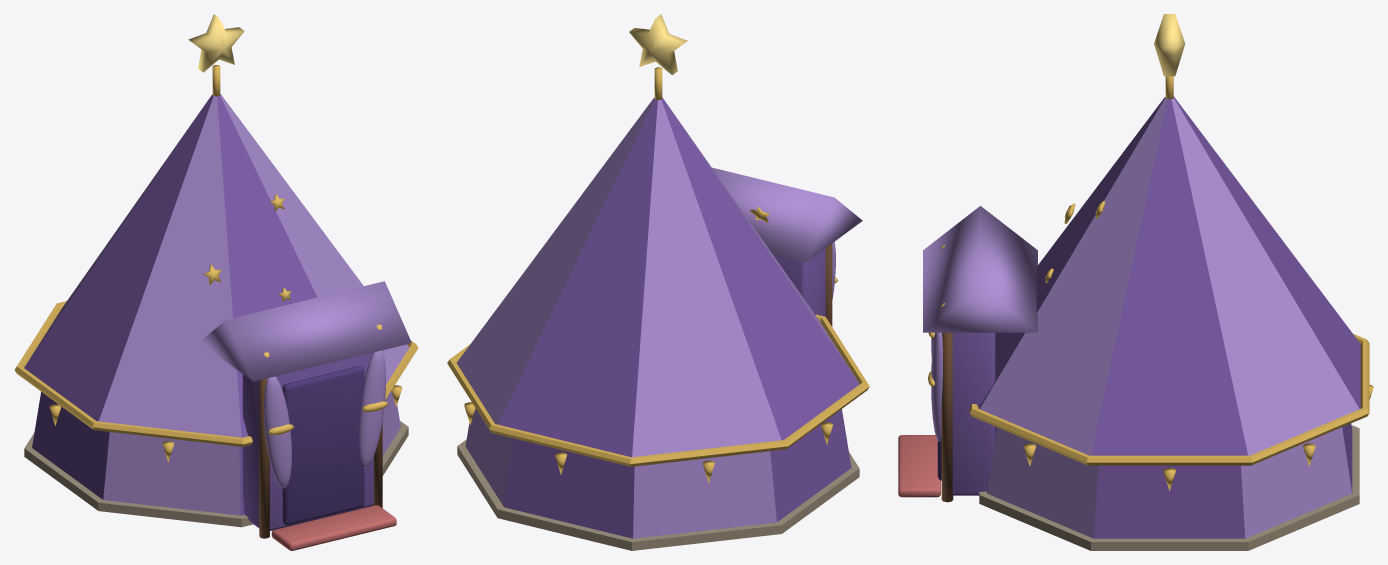
File: dawn-tent.glb
3 renders of one model, left to right at view 1: azimuth 30°, elevation 25°; view 2: azimuth 150°, elevation 25°; view 3: azimuth 270°, elevation 25°, orthographic. The views are drawn at different scales.
Parts seen in each view (by area): view 1: tent; view 2: tent; view 3: tent.
Part boxes in pixels (box(x1,y1,x2,y2)): tent: box(14, 14, 418, 550); tent: box(447, 14, 869, 550); tent: box(898, 14, 1373, 550).
Bounding box in the file's own units: 2.48 × 3.06 × 2.89.
